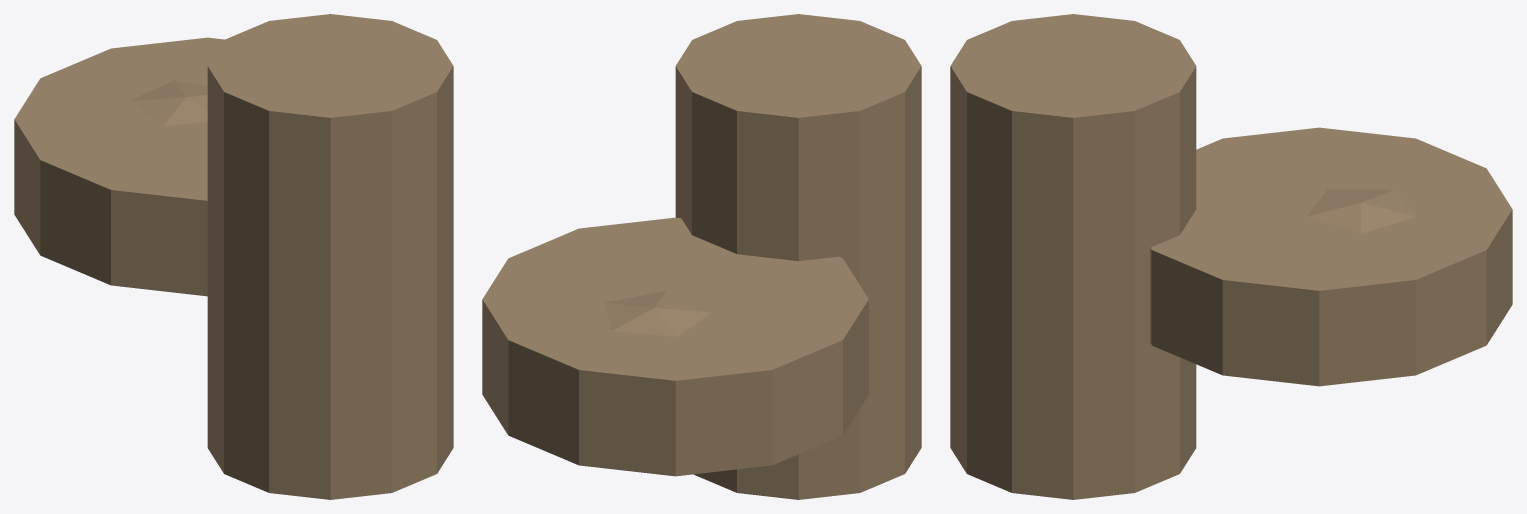
Rendered from curbside_brazier.glb.
The picture shows the model from 3 angles, left to right: view 1: azimuth 30°, elevation 25°; view 2: azimuth 150°, elevation 25°; view 3: azimuth 270°, elevation 25°; orthographic projection.
Visible parts, largest first — view 1: RomanBrazier; view 2: RomanBrazier; view 3: RomanBrazier.
Part boxes in pixels (<box>): RomanBrazier: <box>14,14,453,499</box>; RomanBrazier: <box>482,14,921,499</box>; RomanBrazier: <box>950,14,1512,499</box>.
Size of the model in its own units: 1.1 by 1.2 by 1.6.
